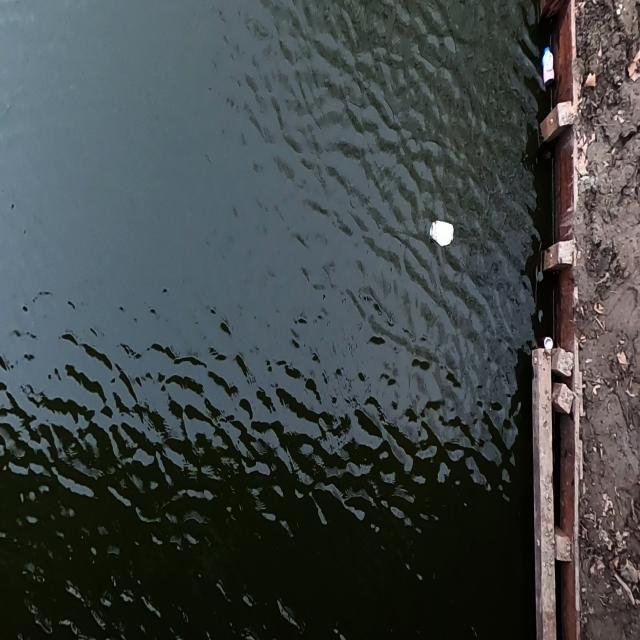Non plastique: (423, 208, 458, 265)
